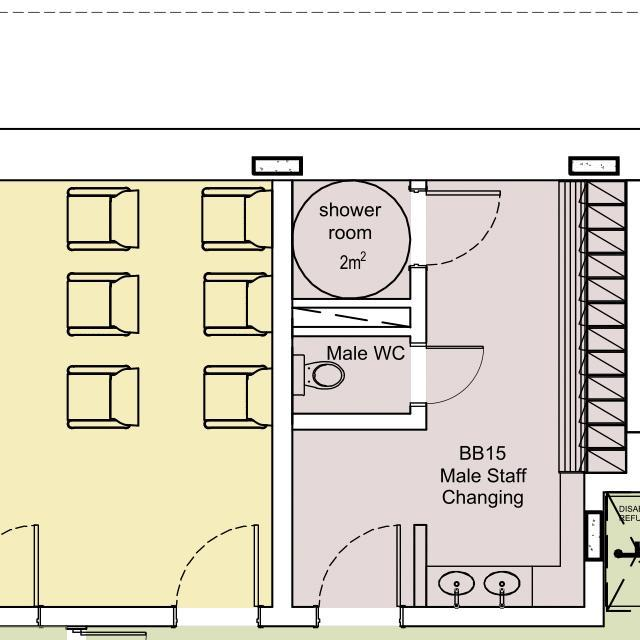door: (170, 520, 264, 627), (314, 522, 403, 626), (408, 184, 506, 266), (413, 336, 485, 409), (0, 521, 44, 627), (65, 625, 151, 640)
